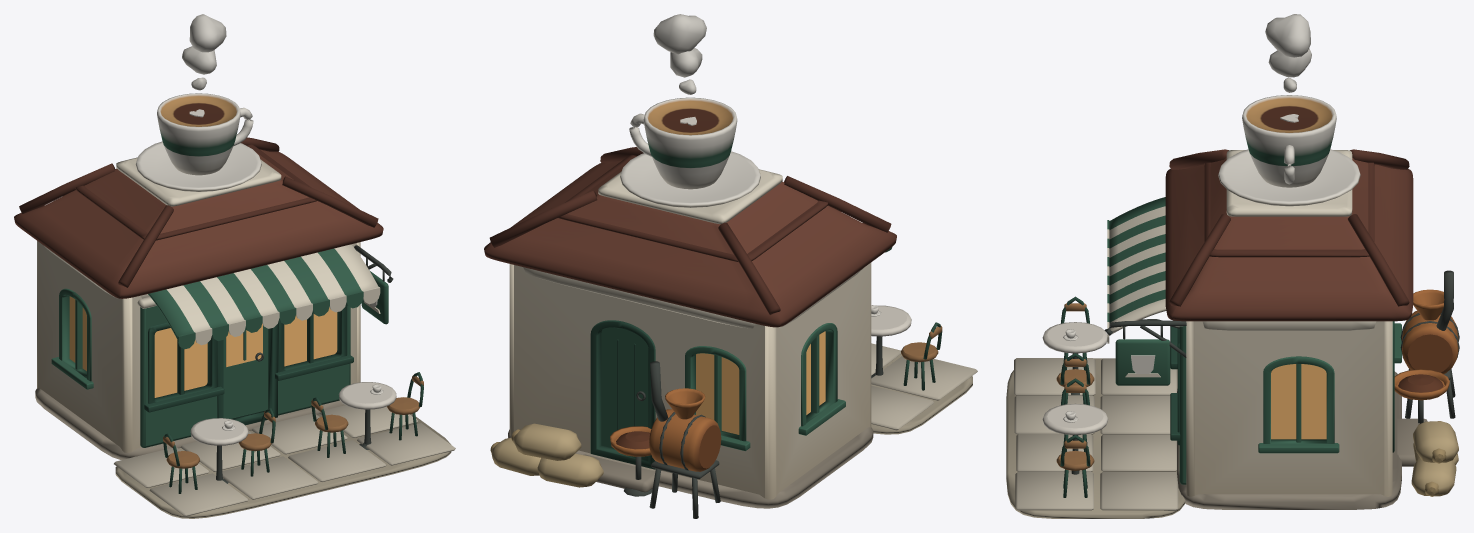
The model's file is BLD_Cafe_A.fbx.
3 renders of one model, left to right at view 1: azimuth 30°, elevation 25°; view 2: azimuth 150°, elevation 25°; view 3: azimuth 270°, elevation 25°, orthographic. The views are drawn at different scales.
Visible parts, largest first — view 1: BLD_Cafe_A_Body_LOD0, BLD_Cafe_A_Puff3_LOD0, BLD_Cafe_A_Sign_LOD0, BLD_Cafe_A_Puff2_LOD0; view 2: BLD_Cafe_A_Body_LOD0, BLD_Cafe_A_Puff3_LOD0, BLD_Cafe_A_Puff2_LOD0; view 3: BLD_Cafe_A_Body_LOD0, BLD_Cafe_A_Sign_LOD0, BLD_Cafe_A_Puff3_LOD0, BLD_Cafe_A_Puff2_LOD0.
Part boxes in pixels (x1,y1,x2,y2): BLD_Cafe_A_Body_LOD0: [14, 93, 455, 518]; BLD_Cafe_A_Puff3_LOD0: [189, 14, 226, 52]; BLD_Cafe_A_Sign_LOD0: [361, 258, 388, 324]; BLD_Cafe_A_Puff2_LOD0: [182, 46, 216, 74]; BLD_Cafe_A_Body_LOD0: [484, 97, 977, 518]; BLD_Cafe_A_Puff3_LOD0: [653, 14, 706, 54]; BLD_Cafe_A_Puff2_LOD0: [670, 48, 702, 77]; BLD_Cafe_A_Body_LOD0: [1006, 95, 1459, 518]; BLD_Cafe_A_Sign_LOD0: [1115, 326, 1170, 385]; BLD_Cafe_A_Puff3_LOD0: [1265, 14, 1310, 57]; BLD_Cafe_A_Puff2_LOD0: [1268, 48, 1311, 77].
Size of what is drawn, in the model's own units: 3.95 by 5.04 by 4.83.
